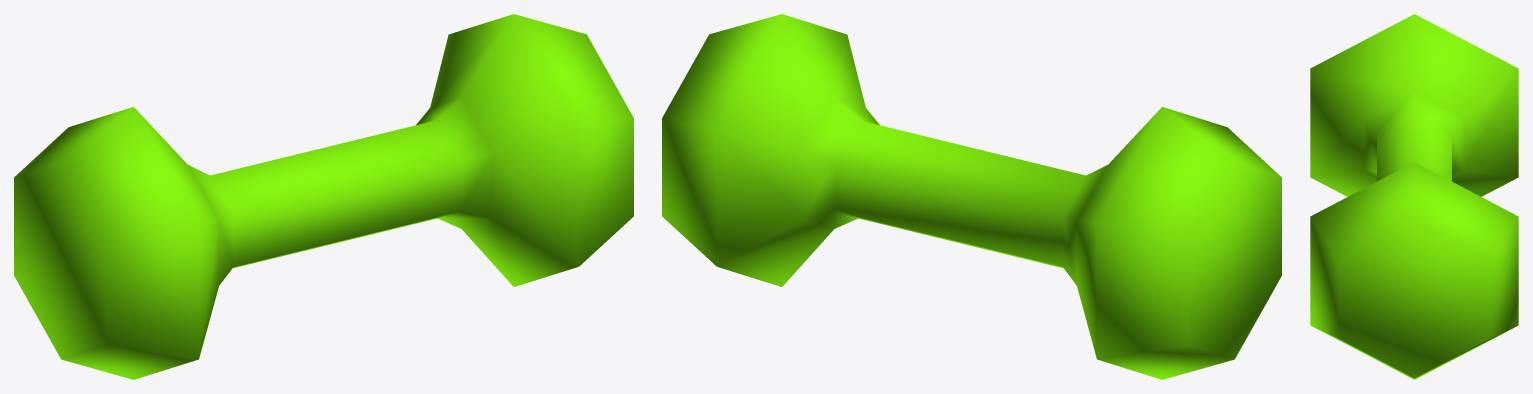
File: Weight_07.FBX
The picture shows the model from 3 angles, left to right: view 1: azimuth 30°, elevation 25°; view 2: azimuth 150°, elevation 25°; view 3: azimuth 270°, elevation 25°; orthographic projection. The views are drawn at different scales.
Parts seen in each view (by area): view 1: Weight; view 2: Weight; view 3: Weight.
Part boxes in pixels (<box>): Weight: <box>14,14,633,379</box>; Weight: <box>662,14,1281,379</box>; Weight: <box>1310,14,1518,379</box>.
Size of the model in its own units: 78.32 by 38.91 by 33.69.
